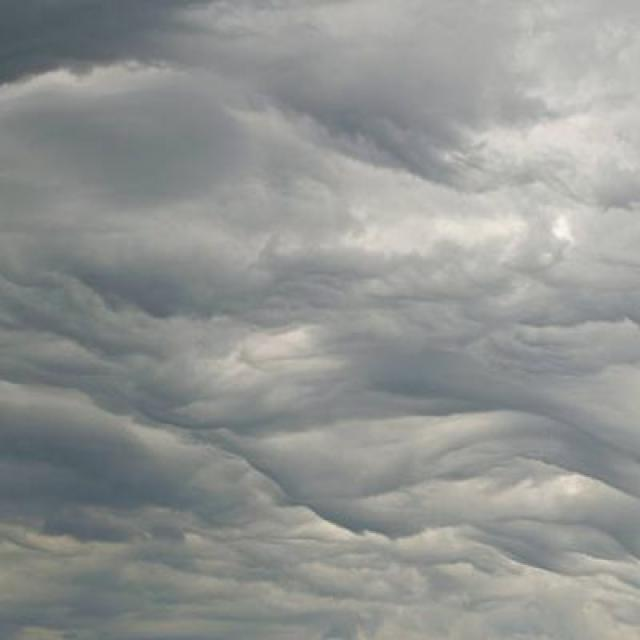As: (1, 49, 640, 549)
